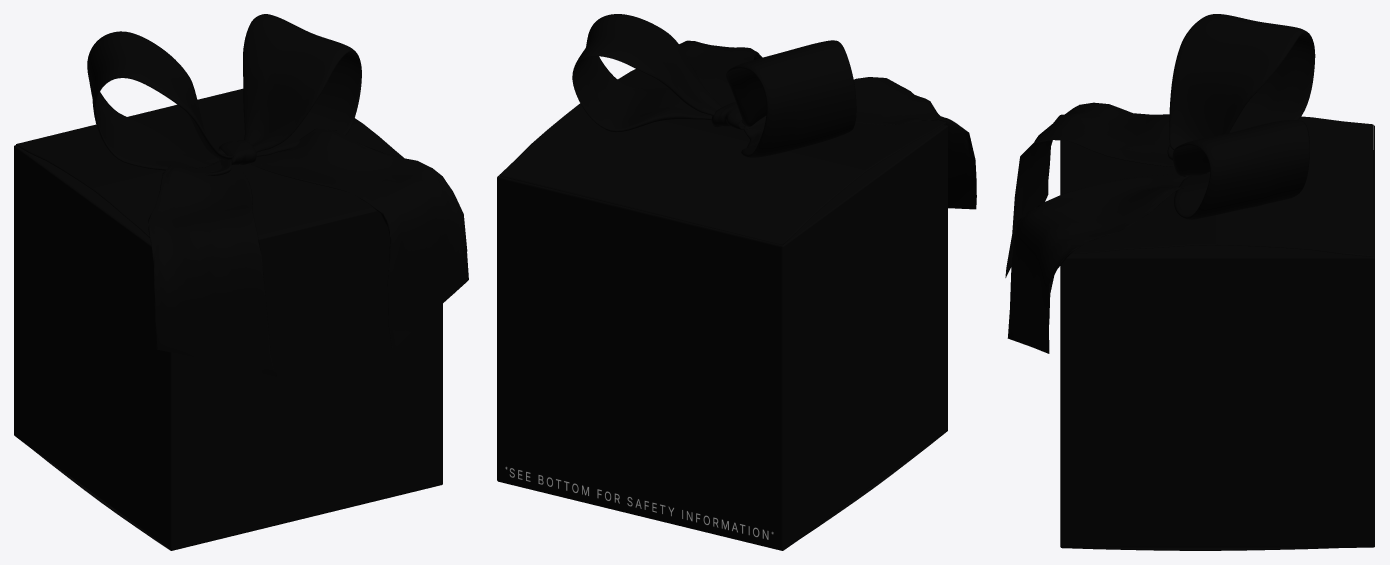
File: foldedboxv2.0.8.glb
3 renders of one model, left to right at view 1: azimuth 30°, elevation 25°; view 2: azimuth 150°, elevation 25°; view 3: azimuth 270°, elevation 25°, orthographic. The views are drawn at different scales.
Visible parts, largest first — view 1: frontoutside, Ribbon, leftoutside, topoutside, leftfoldoutside, bottomoutside, topoutside1; view 2: backoutside, leftoutside, Ribbon, topoutside, leftfoldoutside, topoutside1, Safetynote, bottomoutside; view 3: rightoutside, Ribbon, topoutside, rightfoldoutside, bottomoutside, topoutside1, frontoutside, backoutside.
Boxes of the visible parts, x1,y1,x2,y2 form: frontoutside: (171, 209, 442, 549); Ribbon: (87, 14, 468, 376); leftoutside: (14, 145, 170, 549); topoutside: (17, 88, 403, 236); leftfoldoutside: (17, 146, 151, 244); bottomoutside: (14, 435, 442, 550); topoutside1: (16, 118, 403, 238); backoutside: (498, 176, 781, 549); leftoutside: (781, 125, 947, 550); Ribbon: (572, 14, 976, 209); topoutside: (500, 69, 945, 243); leftfoldoutside: (784, 125, 945, 243); topoutside1: (499, 69, 945, 245); Safetynote: (505, 466, 773, 539); bottomoutside: (498, 430, 947, 550); rightoutside: (1062, 257, 1374, 547); Ribbon: (1005, 14, 1315, 353); topoutside: (1062, 116, 1373, 255); rightfoldoutside: (1068, 245, 1368, 256); bottomoutside: (1060, 546, 1374, 550); topoutside1: (1071, 116, 1373, 256); frontoutside: (1060, 140, 1061, 547); backoutside: (1373, 125, 1374, 546).
Bounding box in the file's own units: 0.0958 × 0.1226 × 0.0979.
Materials: 4 (1 with a texture image).
